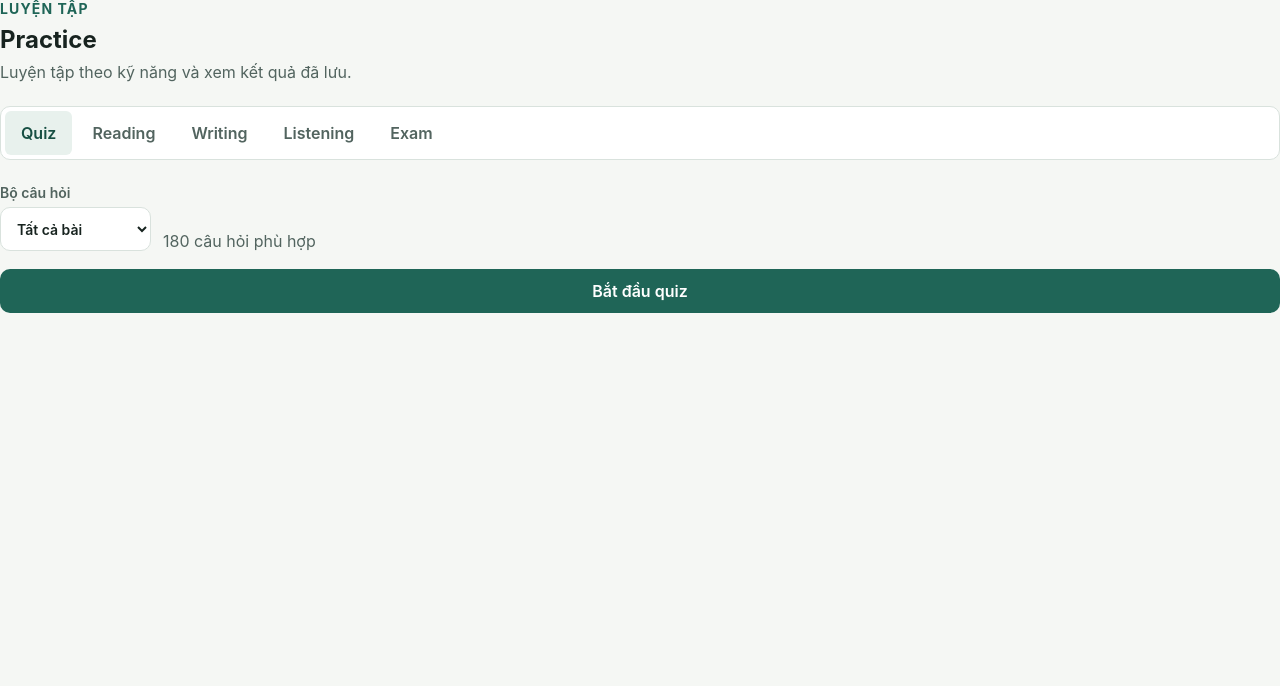
Scenario: PracticePage › Reading practice: selecting empty lesson shows empty state, selecting lesson 1 recovers
Click the tab "Reading".
click(124, 133)  # box [76, 111, 171, 155]
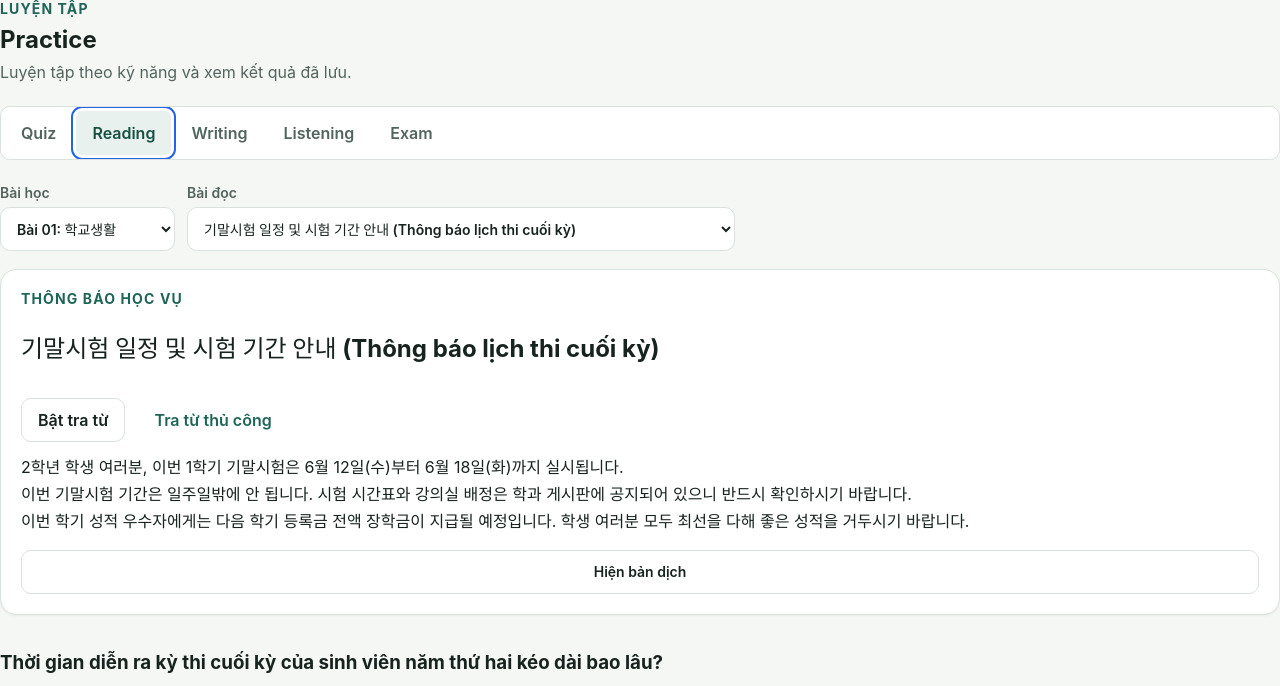
Select "Bài 15: 예절과 규칙" in the dropdown labelled "Bài học" at point(88, 229), box [0, 207, 175, 251]
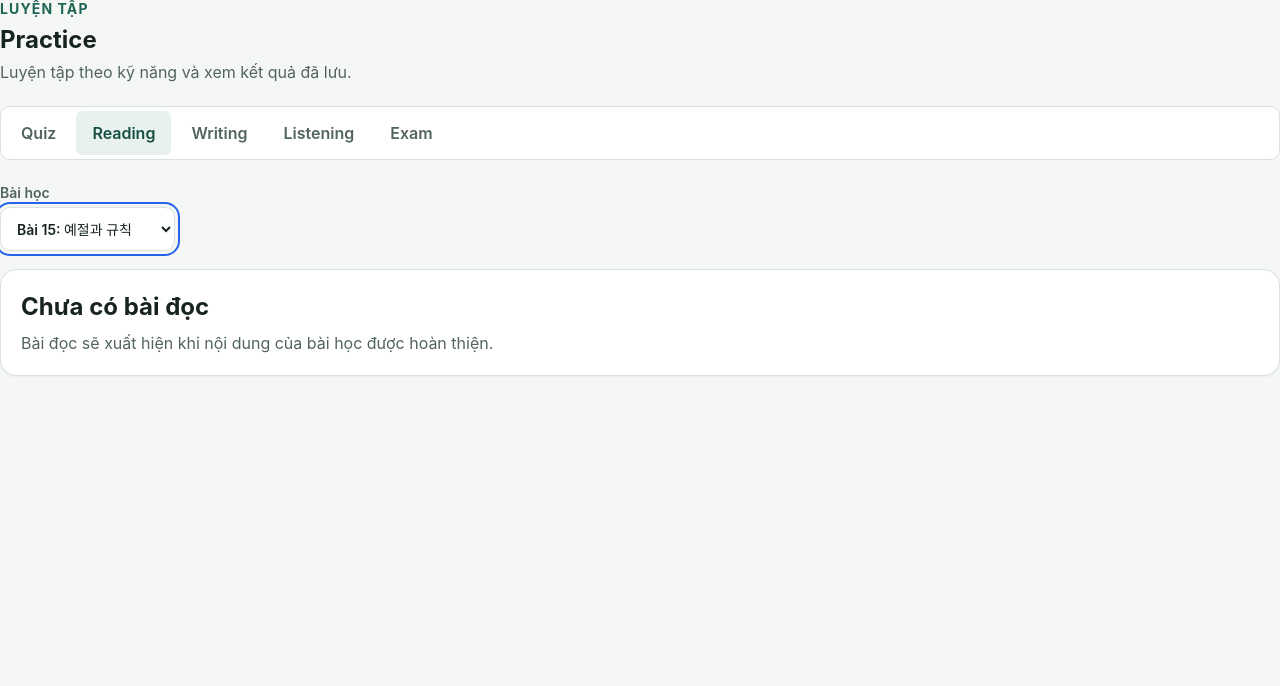
expect the heading "Chưa có bài đọc" is shown: met, box [21, 292, 209, 321]
// Switch back to Lesson 1
Select "Bài 01: 학교생활" in the dropdown labelled "Bài học" at point(88, 229), box [0, 207, 175, 251]
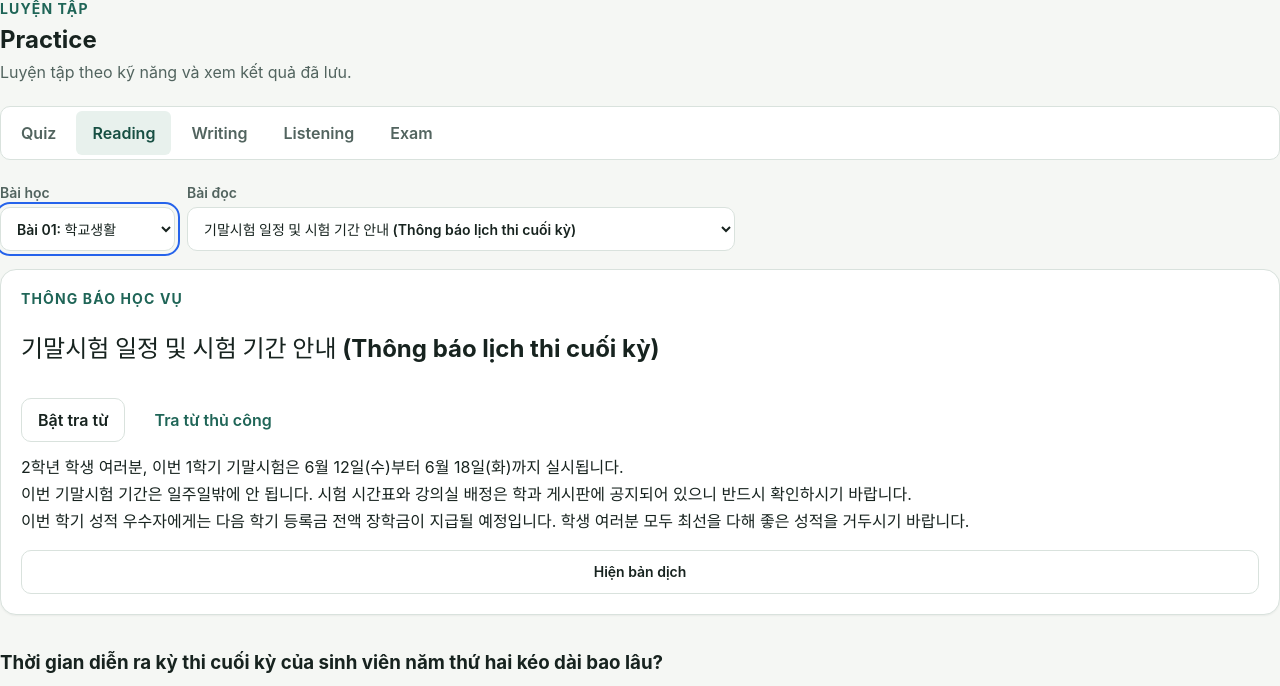
expect the heading "기말시험 일정 및 시험 기간 안내 (Thông báo lịch thi cuối kỳ)" is shown: met, box [21, 334, 660, 363]
